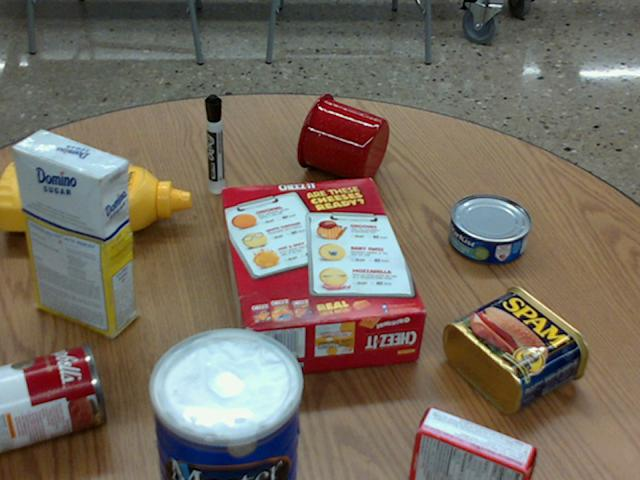cracker_box: (218, 178, 425, 374)
gelatin_box: (408, 405, 536, 479)
large_marker: (204, 94, 223, 193)
master_chef_can: (146, 328, 298, 479)
mug: (297, 93, 389, 184)
mustard_bottle: (0, 162, 189, 232)
potted_meat_can: (444, 286, 588, 414)
sugar_box: (12, 129, 133, 337)
tomato_soup_can: (0, 342, 105, 450)
tuna_fish_can: (449, 194, 531, 263)
